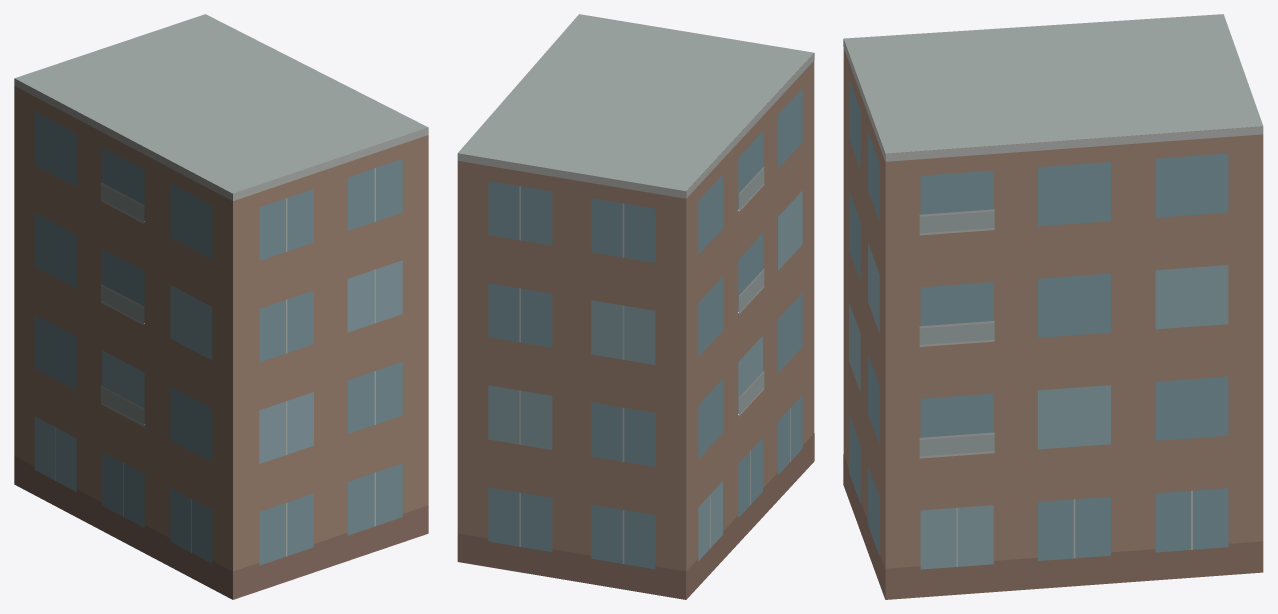
File: survey-upis-32798281.glb
The picture shows the model from 3 angles, left to right: view 1: azimuth 30°, elevation 25°; view 2: azimuth 150°, elevation 25°; view 3: azimuth 270°, elevation 25°; orthographic projection. The views are drawn at different scales.
Visible parts, largest first — view 1: survey-upis-32798281.tmp; view 2: survey-upis-32798281.tmp; view 3: survey-upis-32798281.tmp.
Part boxes in pixels (box(x1,y1,x2,y2)): survey-upis-32798281.tmp: box(14, 14, 428, 599); survey-upis-32798281.tmp: box(457, 14, 814, 599); survey-upis-32798281.tmp: box(843, 14, 1263, 599).
Bounding box in the file's own units: 8.9 × 13.25 × 11.31.
